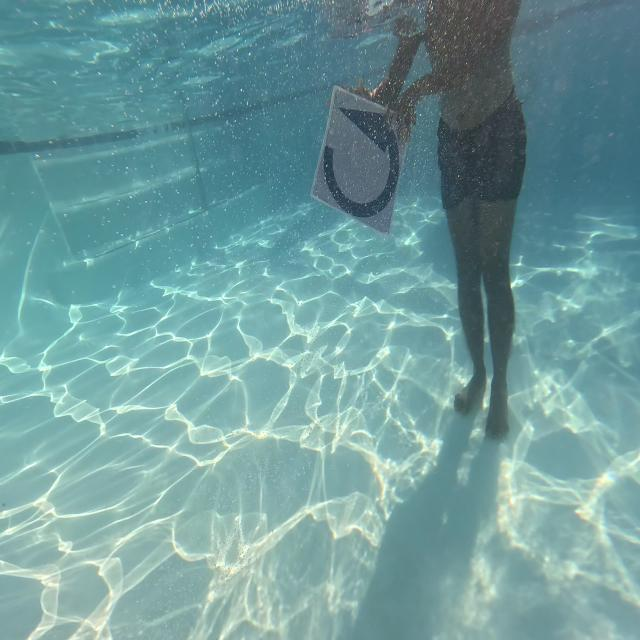blue_side: (316, 77, 403, 236)
